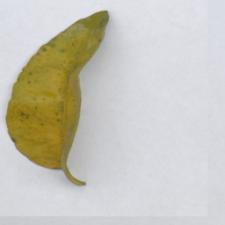Greening: (16, 8, 94, 190)
